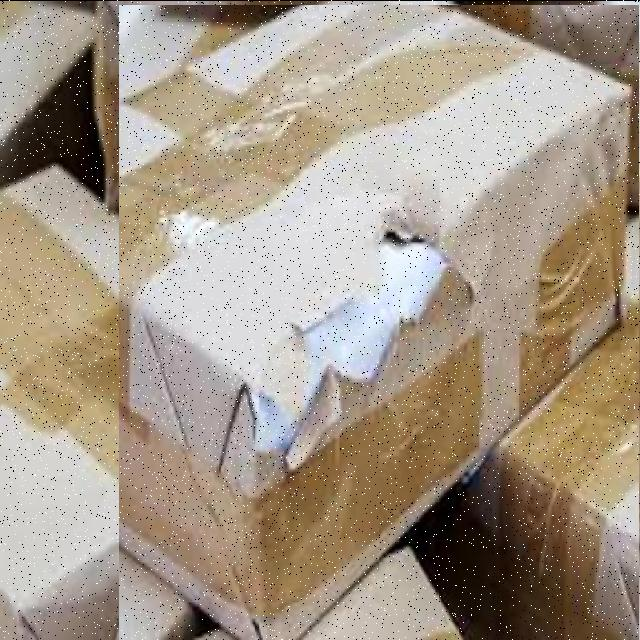defect: (119, 4, 639, 640)
